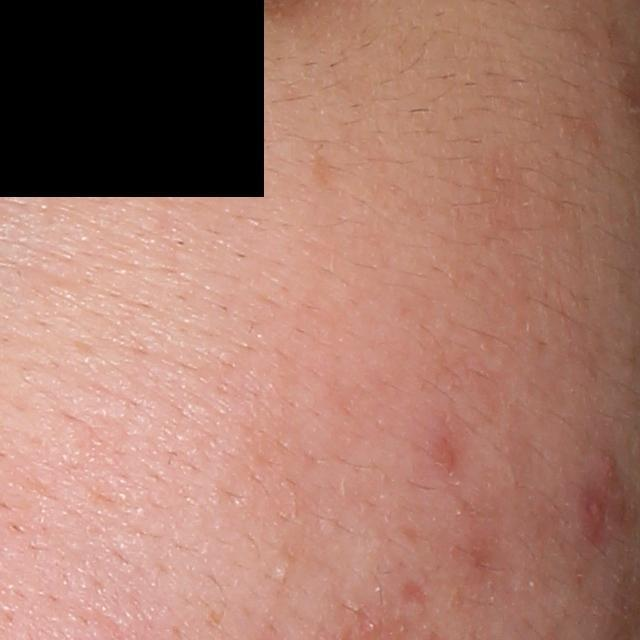atrophic_scar: (399, 579, 431, 622)
papule: (580, 492, 606, 524), (592, 449, 618, 477)
